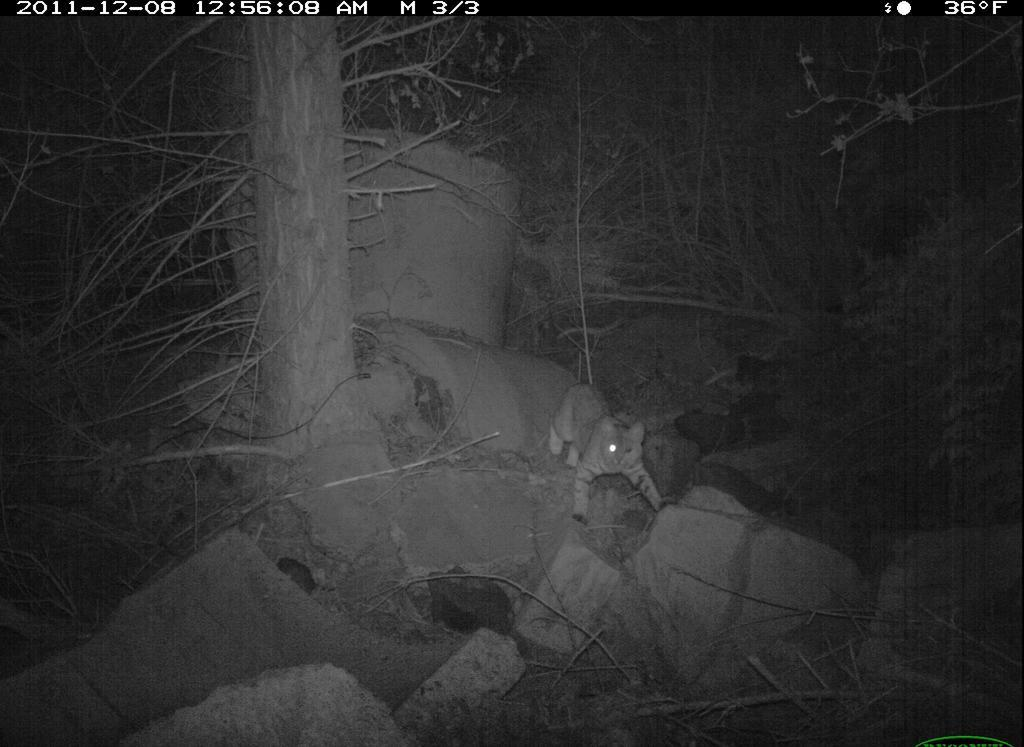bobcat: (539, 368, 679, 529)
